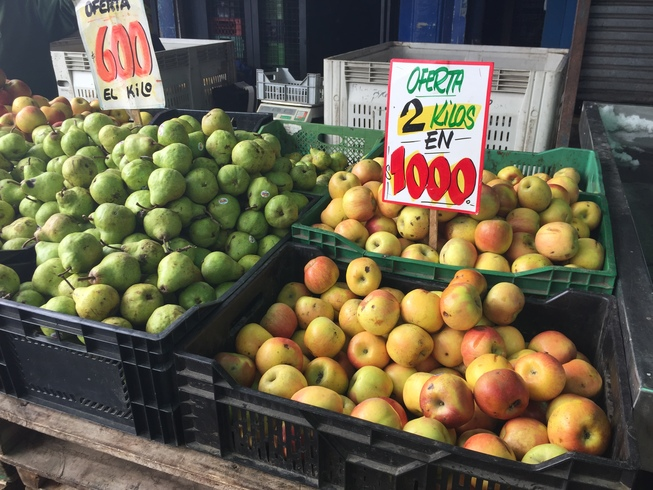precio: (380, 53, 496, 218), (68, 1, 175, 119)
